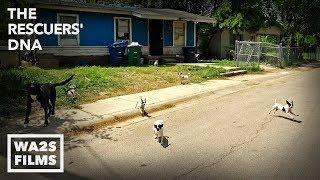dog_aggressive: (21, 75, 77, 127), (266, 96, 302, 124), (150, 117, 170, 147), (134, 94, 148, 116)
normal_dogs: (174, 70, 192, 85)
